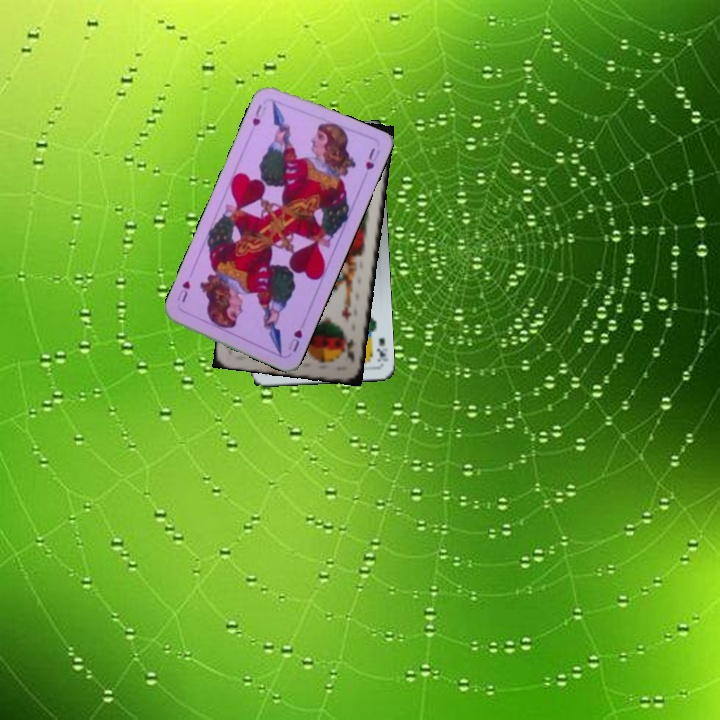EK: (373, 334, 390, 364)
HU: (284, 326, 305, 355), (248, 101, 264, 129)
SK: (341, 335, 357, 366)
